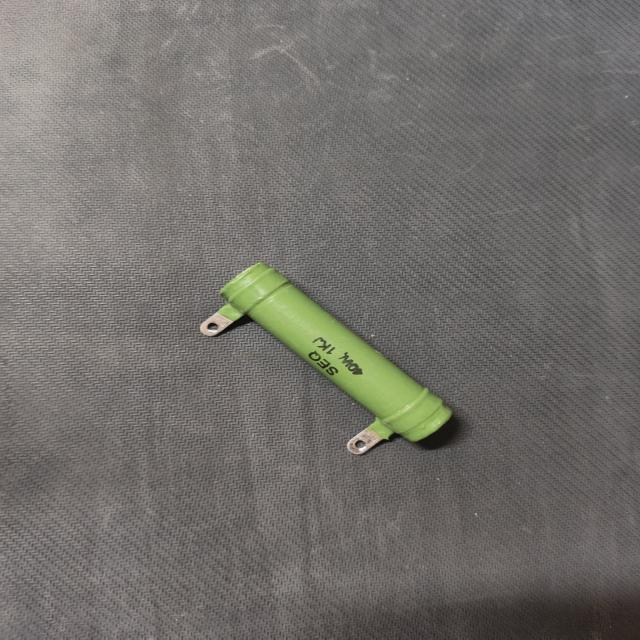resistor: (190, 255, 466, 461)
